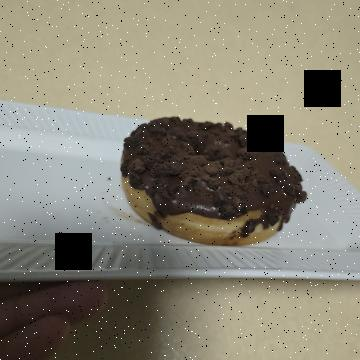doughnut: (112, 51, 261, 260)
